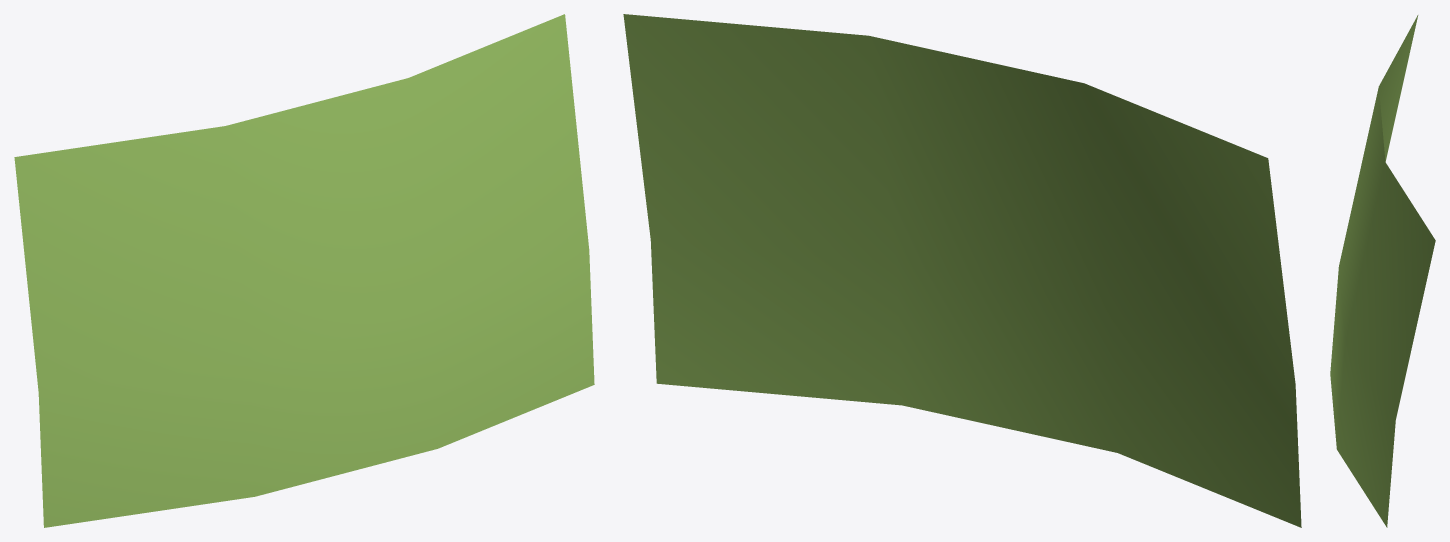
Rendered from GrassPlane_a_TwoS_05.fbx.
3 renders of one model, left to right at view 1: azimuth 30°, elevation 25°; view 2: azimuth 150°, elevation 25°; view 3: azimuth 270°, elevation 25°, orthographic. The views are drawn at different scales.
Parts seen in each view (by area): view 1: GrassPlane_a_TwoS_05; view 2: GrassPlane_a_TwoS_05; view 3: GrassPlane_a_TwoS_05.
Part boxes in pixels (x1,y1,x2,y2): GrassPlane_a_TwoS_05: (14, 14, 594, 527); GrassPlane_a_TwoS_05: (623, 14, 1301, 527); GrassPlane_a_TwoS_05: (1330, 15, 1435, 527).
Bounding box in the file's own units: 99.66 × 60.05 × 19.71.
